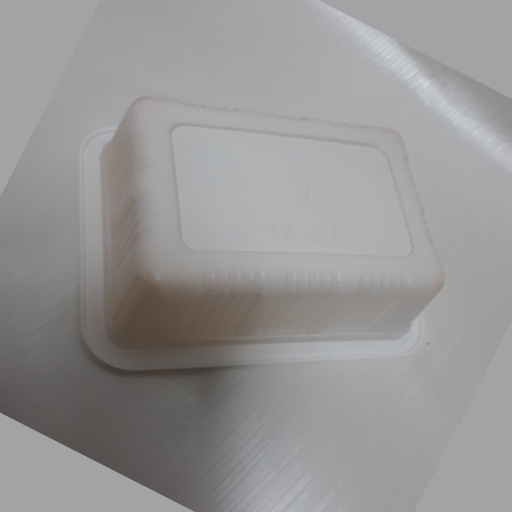Plastic_4: (78, 95, 445, 373)
